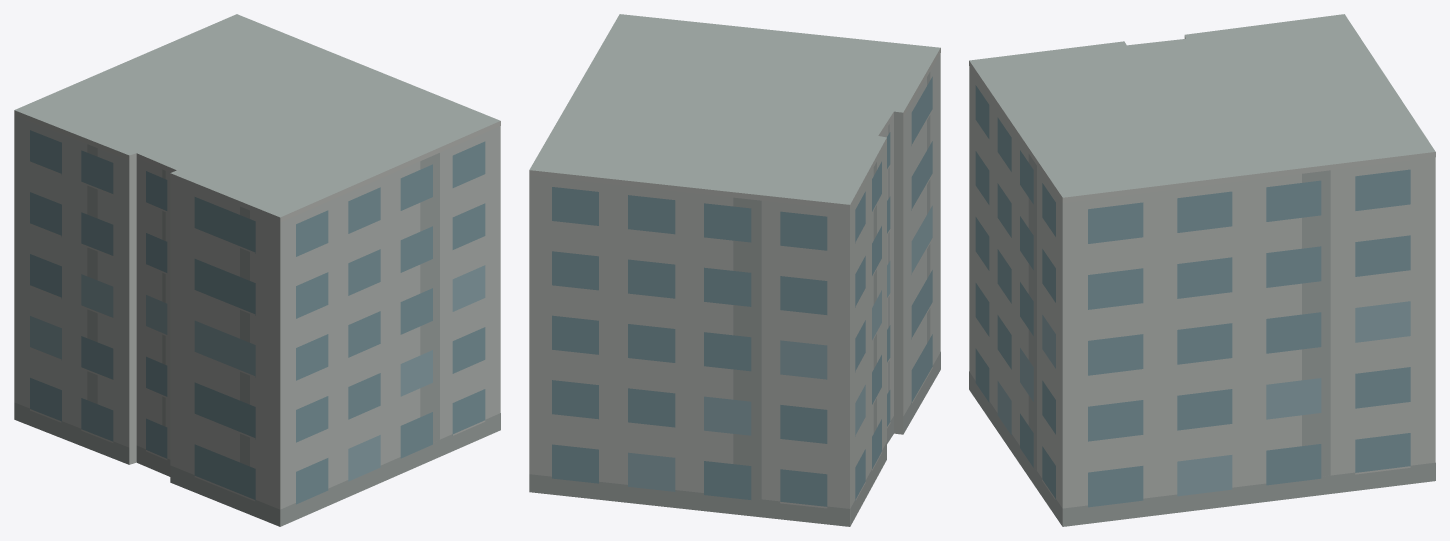
Rendered from survey-upis-32957535.glb.
3 views of the same model, side by side, from view 1: azimuth 30°, elevation 25°; view 2: azimuth 150°, elevation 25°; view 3: azimuth 270°, elevation 25° (orthographic). The views are drawn at different scales.
Visible parts, largest first — view 1: survey-upis-32957535.tmp; view 2: survey-upis-32957535.tmp; view 3: survey-upis-32957535.tmp.
Boxes of the visible parts, x1,y1,x2,y2 form: survey-upis-32957535.tmp: [14, 14, 500, 526]; survey-upis-32957535.tmp: [529, 14, 940, 526]; survey-upis-32957535.tmp: [969, 14, 1435, 526].
Bounding box in the file's own units: 17.43 × 14.55 × 18.7.
